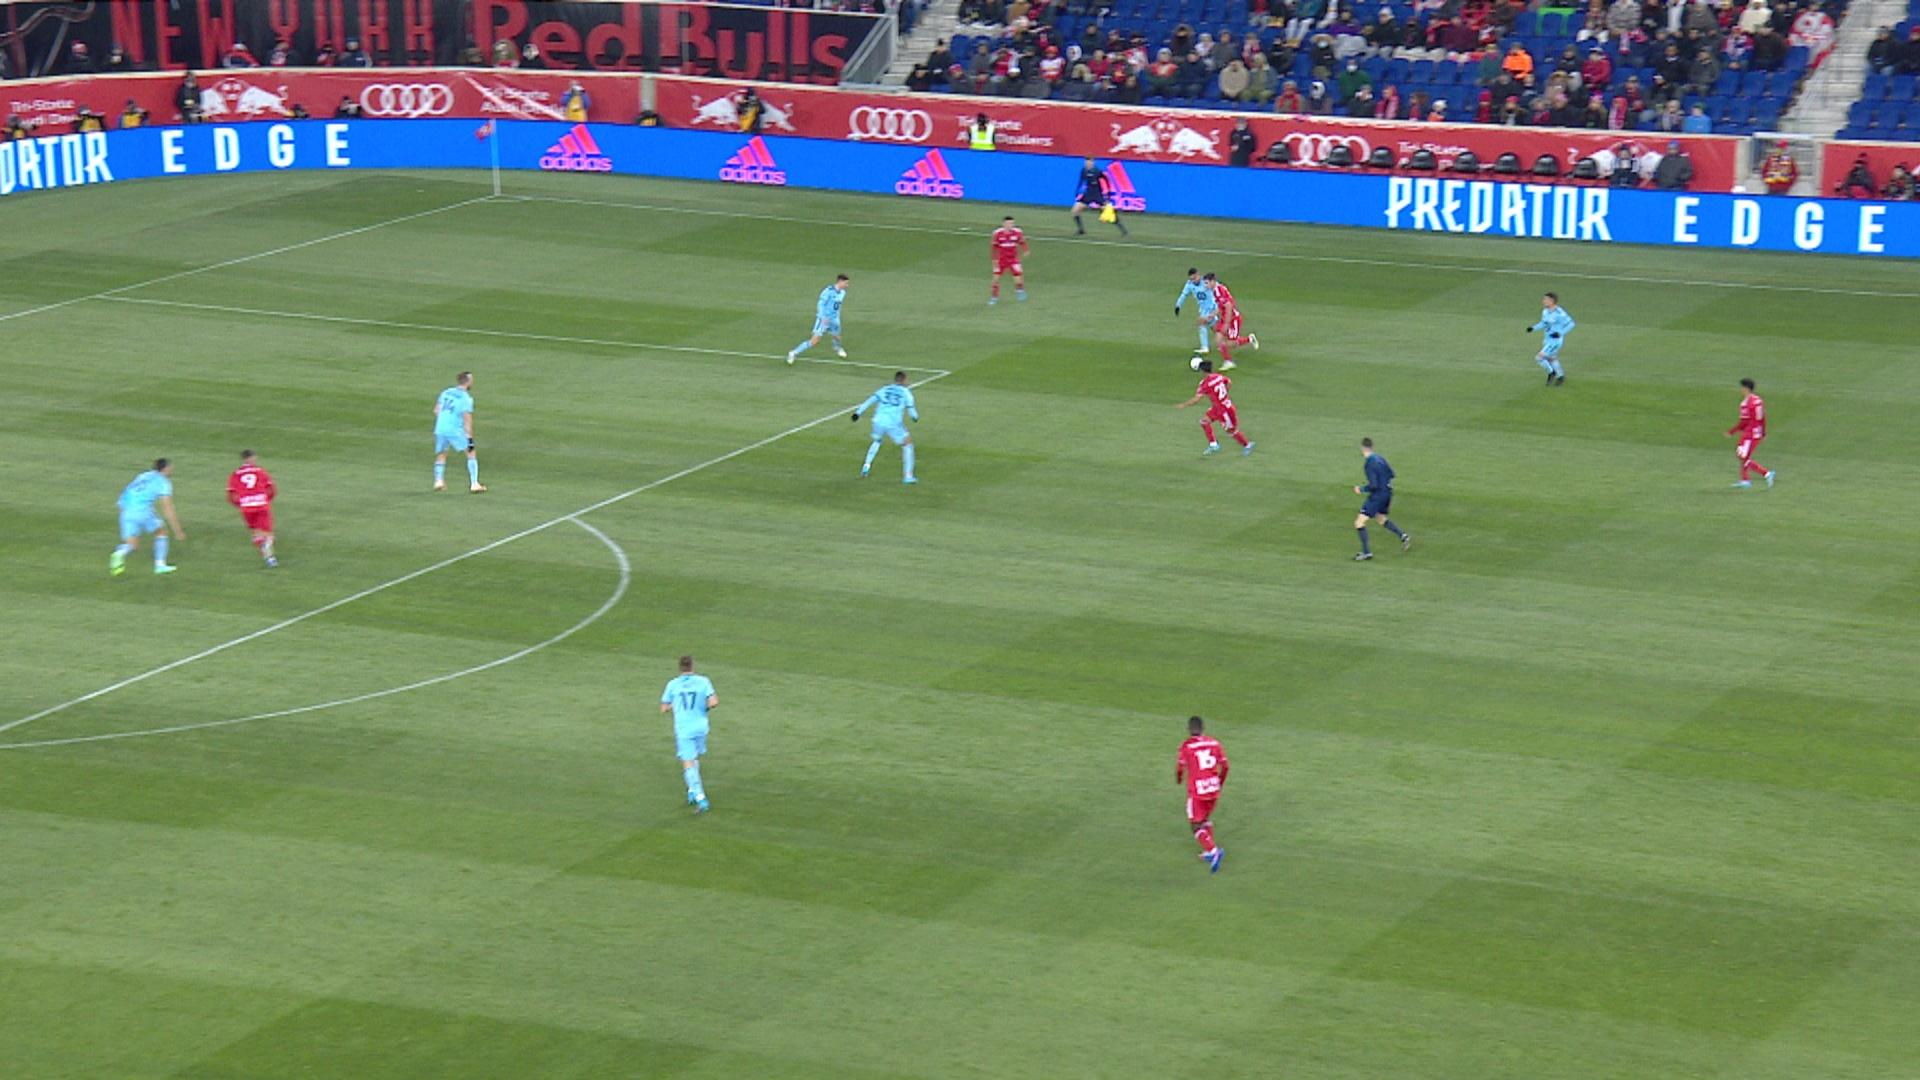football: (1188, 356, 1199, 371)
